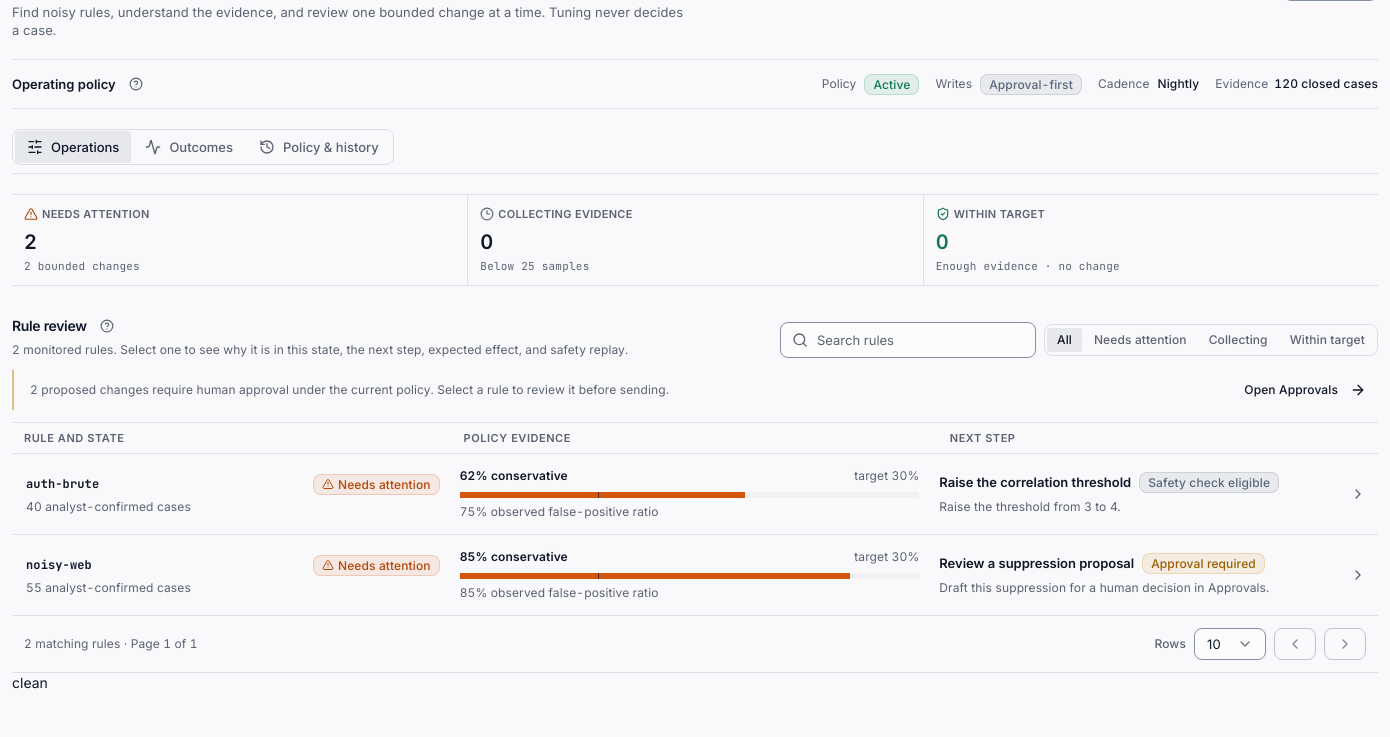
Test: Tuning page › routes an otherwise safe bounded change to Approvals in review-first mode
The width and height of the screenshot is (1390, 737).
Click the button with aria-label "Inspect rule auth-brute": x=695, y=494 [12, 454, 1378, 534]
(page scrolled)
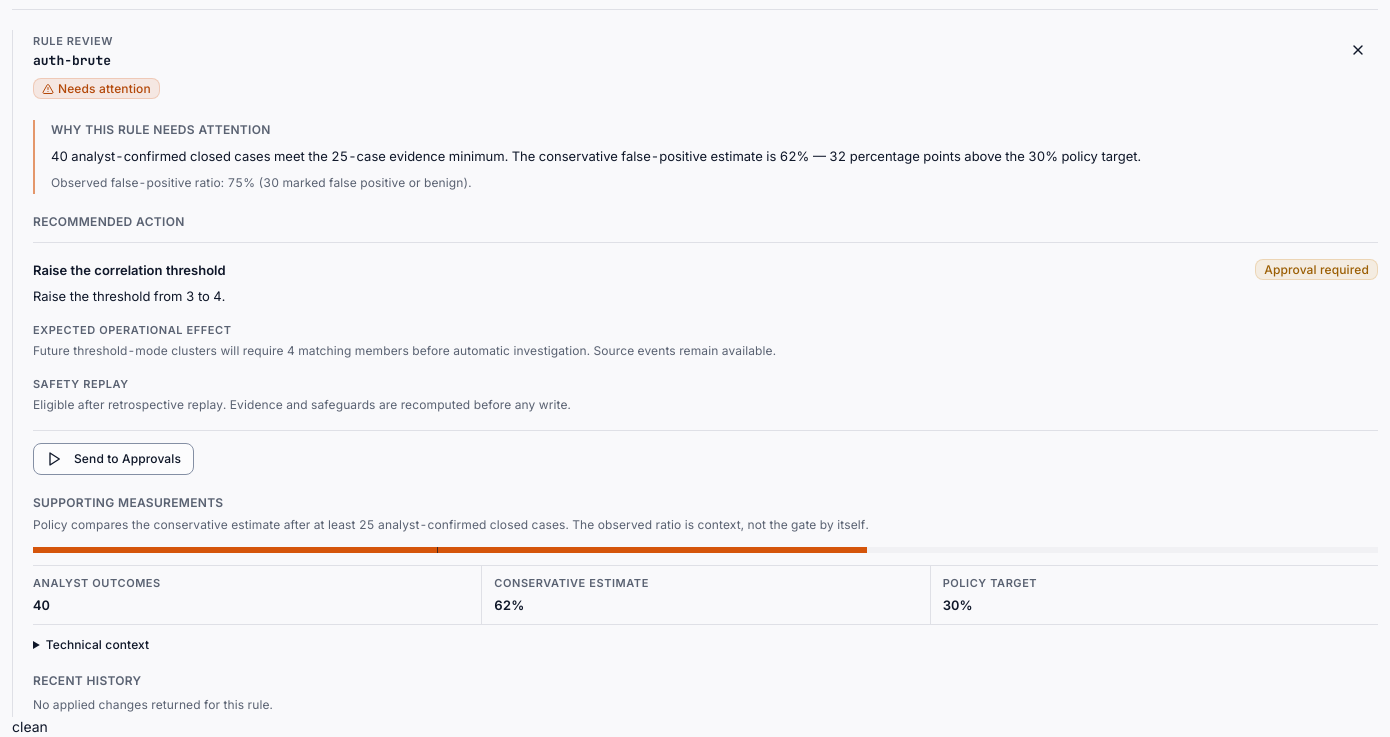
Check: the button with aria-label "Process all changes for auth-brute" reads "Send to Approvals", box [33, 443, 194, 475]
